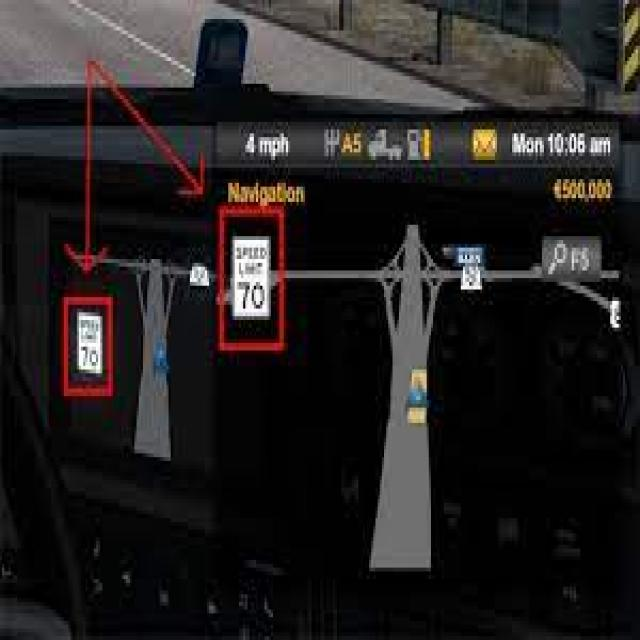speedLimit70: (231, 229, 272, 320), (78, 313, 102, 380)
